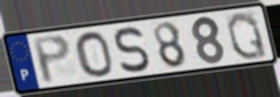8: (190, 15, 227, 65), (152, 20, 188, 70)
O: (73, 30, 116, 79)
P: (30, 33, 74, 86)
Q: (225, 10, 270, 62)
S: (113, 25, 152, 75)
